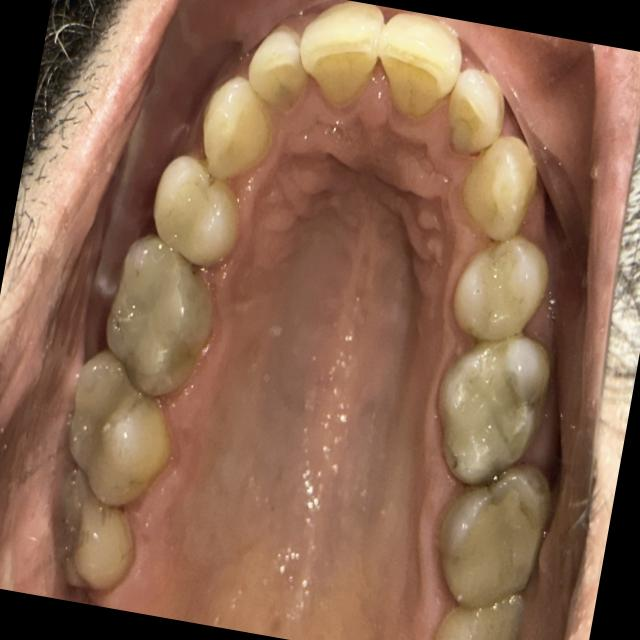tooth: (82, 218, 248, 430), (414, 313, 566, 516), (414, 441, 564, 631), (47, 342, 197, 527), (29, 451, 167, 613), (433, 212, 567, 363), (446, 100, 566, 268), (356, 6, 476, 154), (137, 142, 261, 283), (281, 0, 404, 139), (184, 62, 286, 198), (433, 46, 524, 175), (232, 9, 324, 135), (426, 571, 538, 640)
